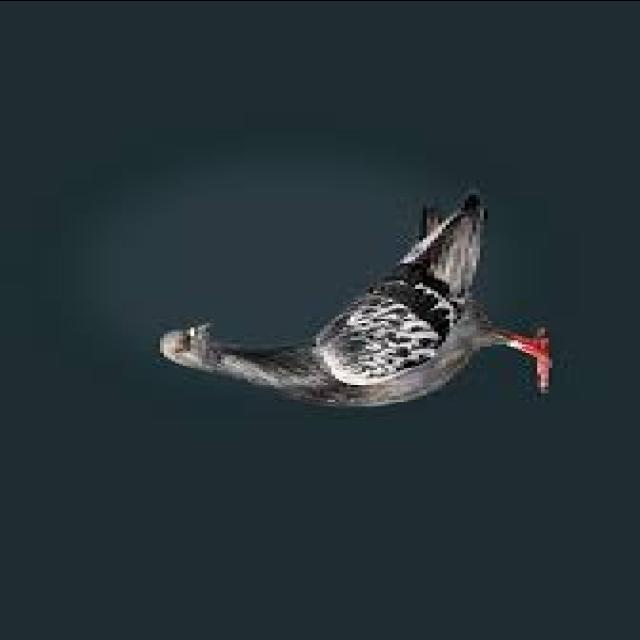pigeon: (144, 176, 562, 422)
